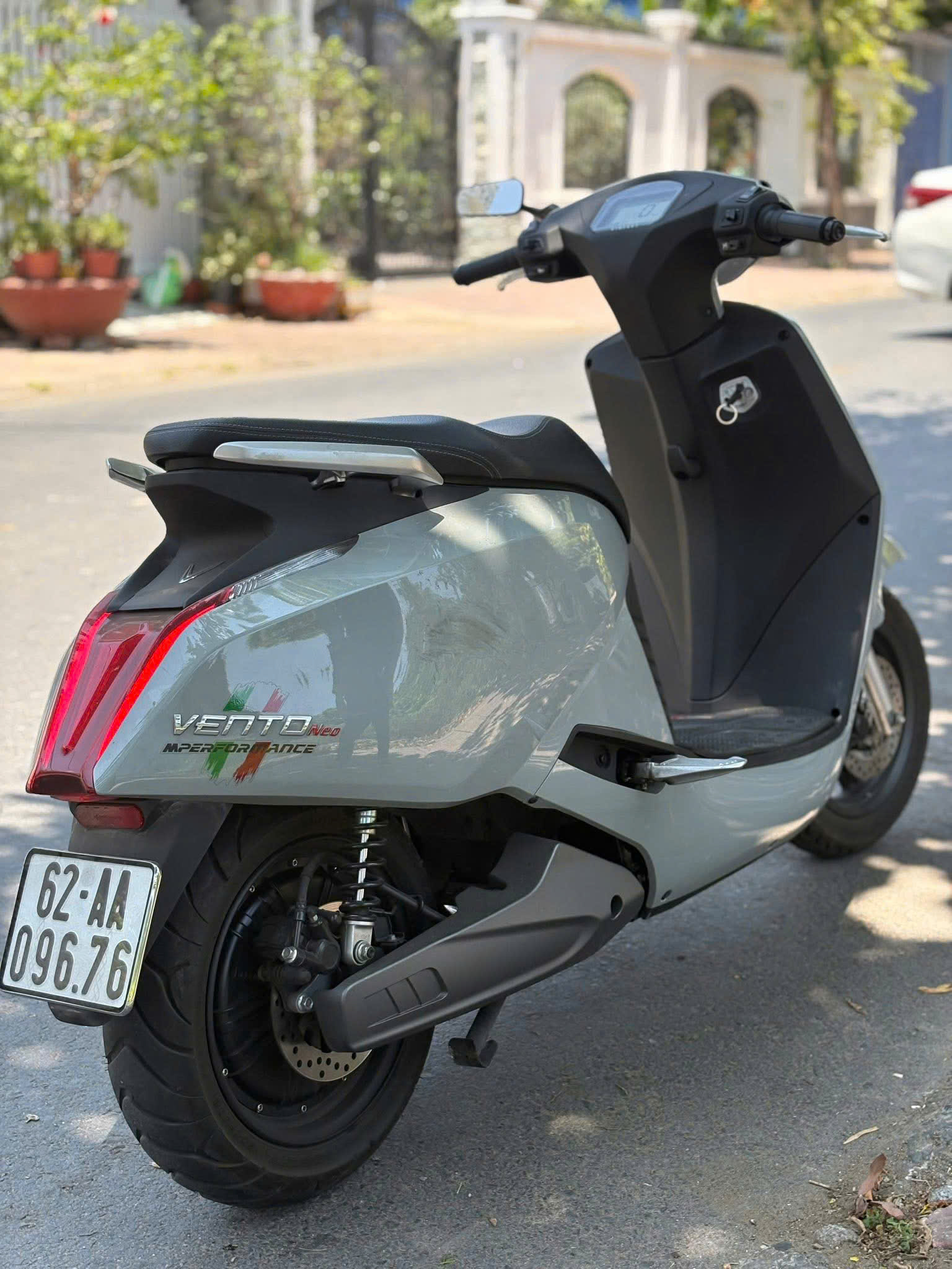Bien-so: (1, 845, 165, 1009)
